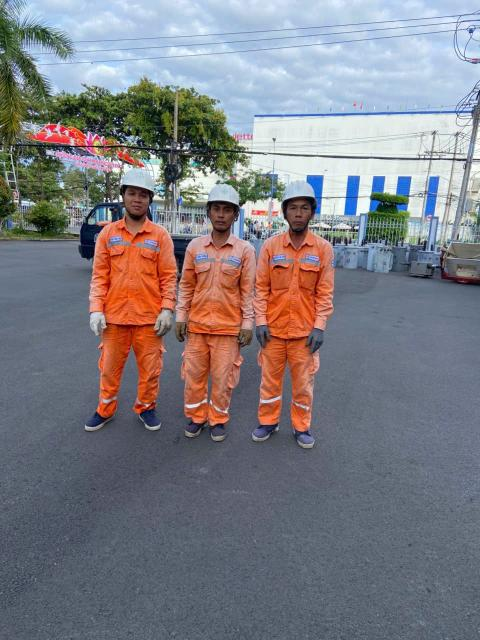gloves: (151, 304, 177, 338), (84, 309, 113, 339), (302, 325, 327, 355), (172, 320, 194, 345), (254, 322, 275, 347), (239, 325, 254, 349)
helmet: (118, 162, 160, 198), (205, 180, 244, 209), (279, 178, 320, 203)
shoes: (79, 406, 118, 435), (134, 403, 166, 434), (249, 414, 281, 444), (290, 423, 321, 449), (184, 409, 211, 437), (208, 419, 229, 443)
